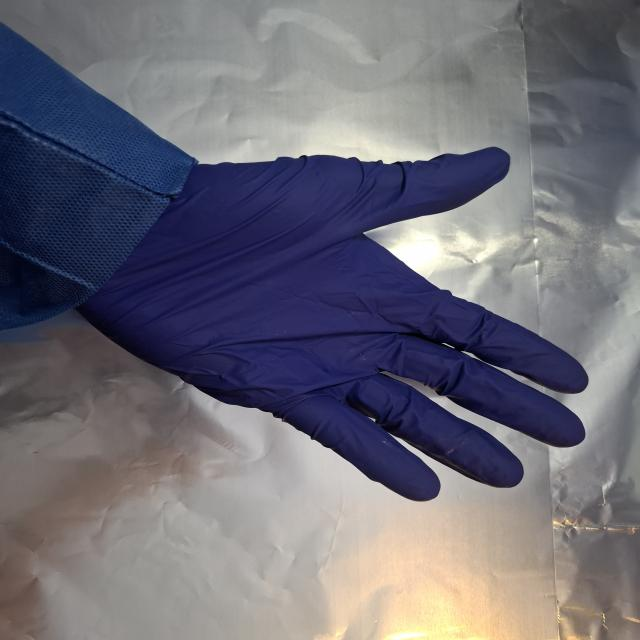glove_on: (74, 144, 592, 504)
